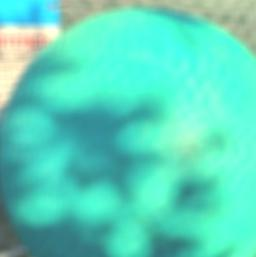algae: (1, 2, 256, 257)
